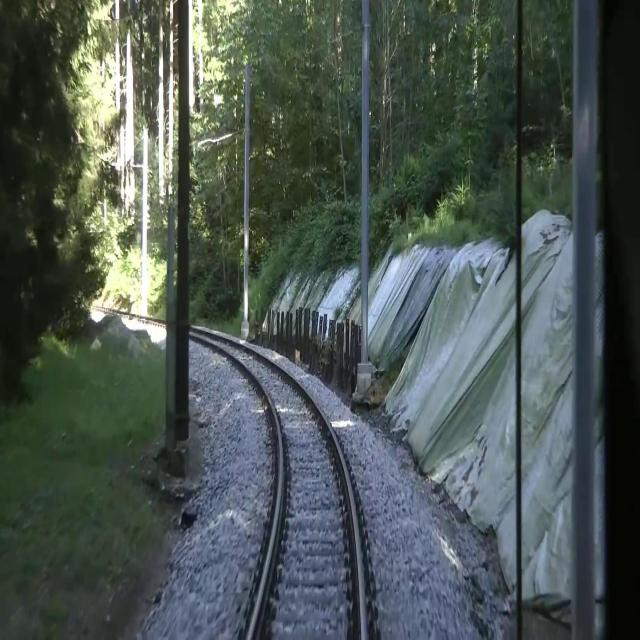rail-track: (199, 333, 361, 639)
